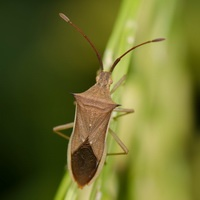insect: (53, 13, 164, 187)
